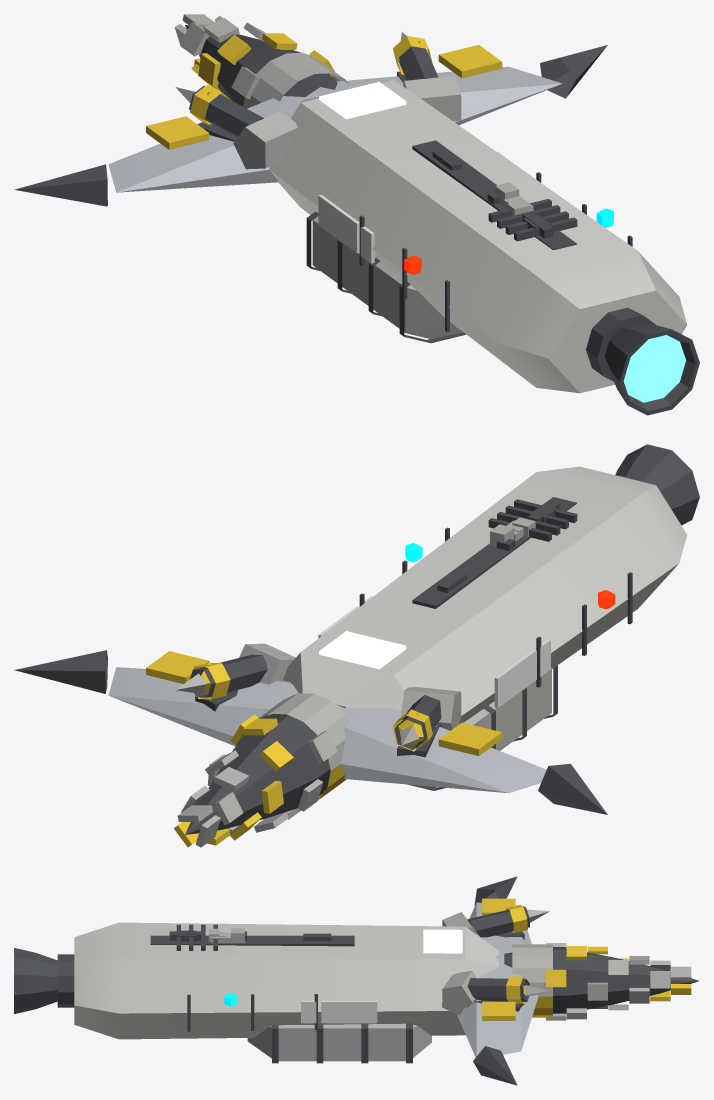
File: pickaxe.glb
3 renders of one model, top to bottom at view 1: azimuth 30°, elevation 25°; view 2: azimuth 150°, elevation 25°; view 3: azimuth 270°, elevation 25°, orthographic. The views are drawn at different scales.
Parts seen in each view (by area): view 1: Hull, Rotor_Spike; view 2: Hull, Rotor_Spike; view 3: Hull, Rotor_Spike.
Part boxes in pixels (x1,y1,x2,y2): Hull: [14, 36, 699, 415]; Rotor_Spike: [174, 14, 348, 108]; Hull: [14, 444, 699, 814]; Rotor_Spike: [174, 693, 349, 847]; Hull: [14, 876, 538, 1085]; Rotor_Spike: [504, 943, 698, 1020].
Size of the model in its own units: 1.44 by 0.3889 by 2.
